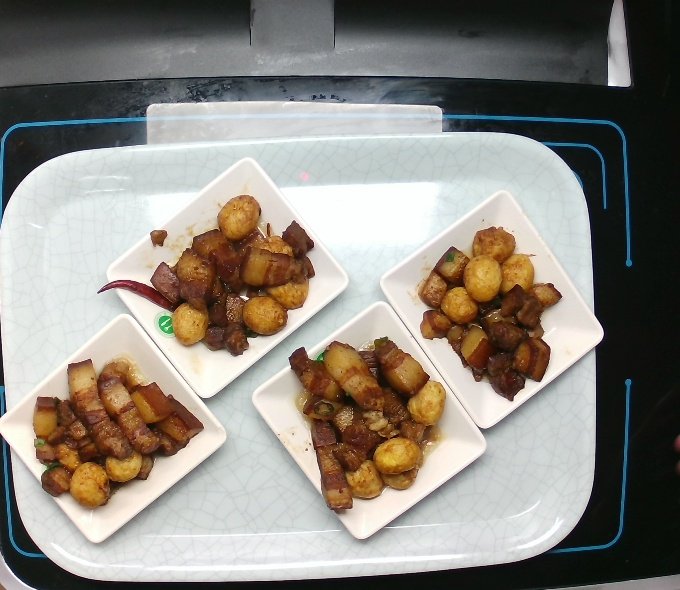wcq-HongShaoRouChaoAnChunDan: (88, 190, 319, 365), (281, 334, 451, 527), (409, 219, 567, 413), (27, 355, 208, 514)
